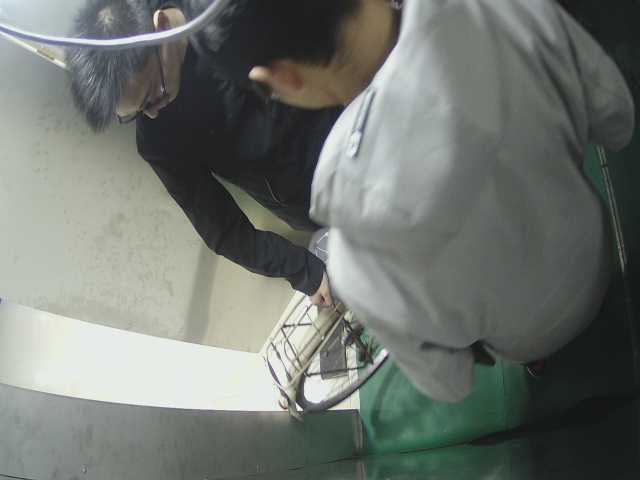bicycle: (263, 280, 408, 426)
person: (244, 6, 640, 400), (61, 1, 364, 310)
